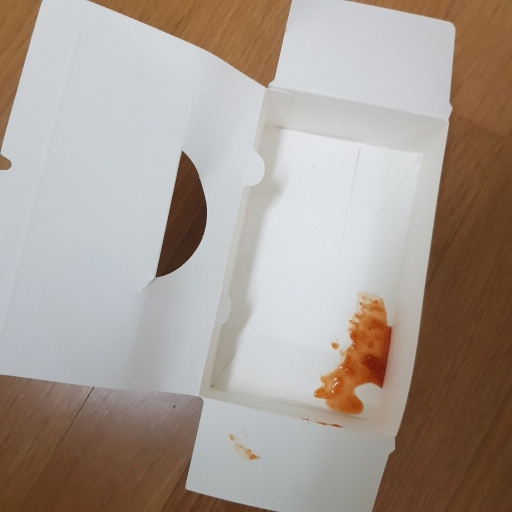Paper_0: (1, 1, 459, 512)
